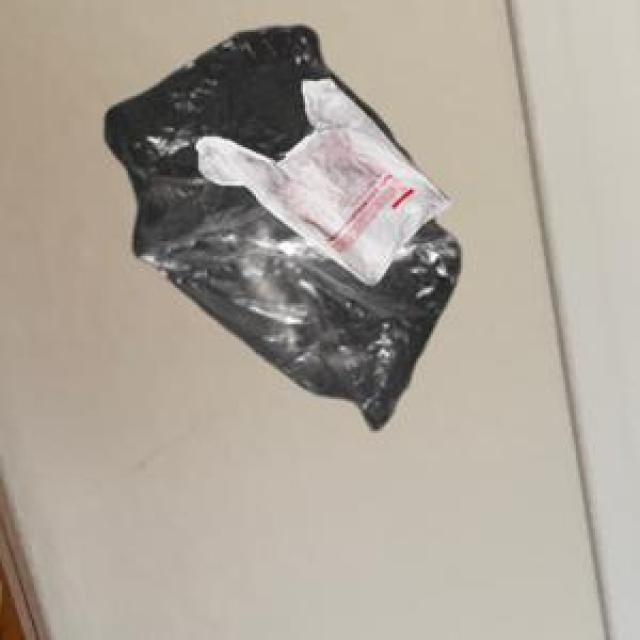waste: (106, 30, 460, 428)
